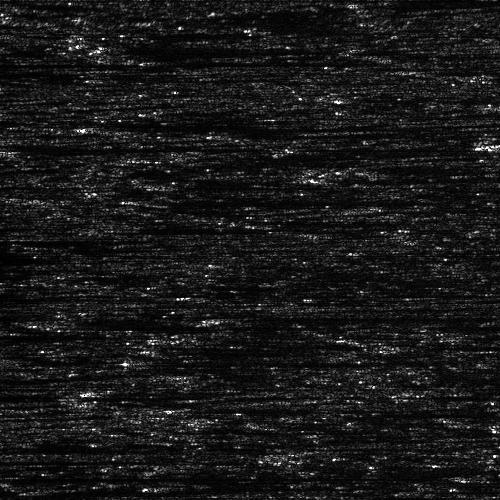object: (62, 194, 239, 207), (456, 138, 500, 151), (216, 314, 269, 321), (152, 182, 215, 187), (0, 141, 20, 152)
shadow: (151, 194, 368, 207), (0, 231, 151, 248), (0, 141, 206, 152), (243, 314, 464, 321), (0, 443, 106, 452), (0, 458, 186, 463), (184, 182, 331, 187), (135, 360, 208, 365), (0, 390, 31, 399)
